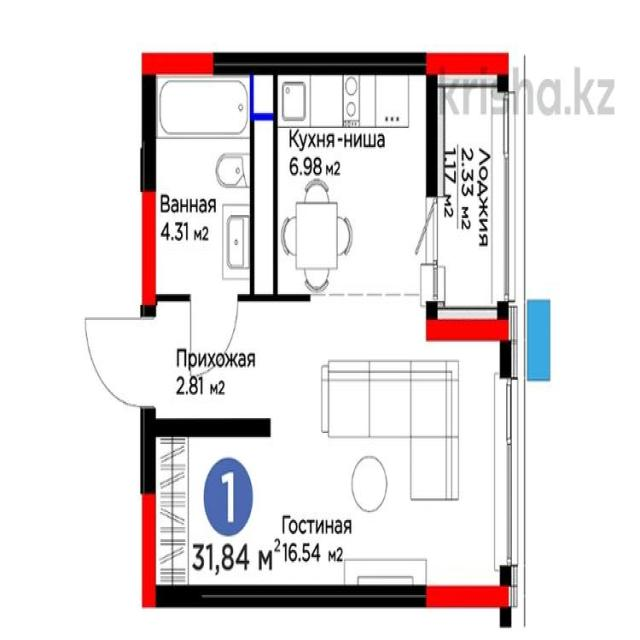balcony: (431, 59, 508, 323)
bathroom: (150, 70, 276, 302)
hallway: (144, 298, 276, 422)
studio: (146, 58, 517, 601)
